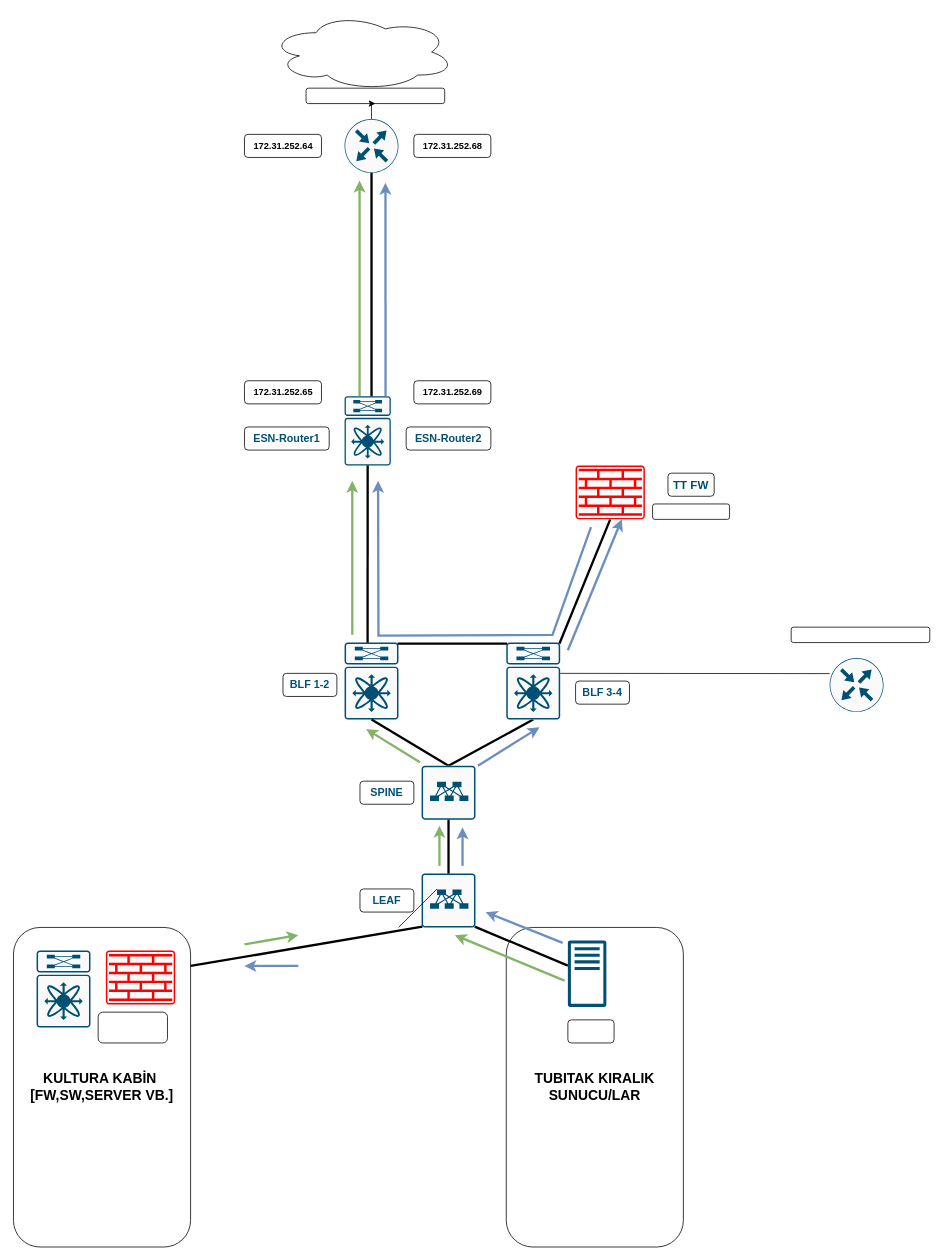
Some shapes in this 943 by 1260 pixel diagram are drawn without their labels. Each missing label, with the centre of its shape:
9121 - MPLS ROUTER: point 375,95
KULTURA FW: point 132,1027
Server: point 590,1031
Server GW: point 691,511
TTVPN MPLS: point 860,634
ınternet-9121: point 362,51
